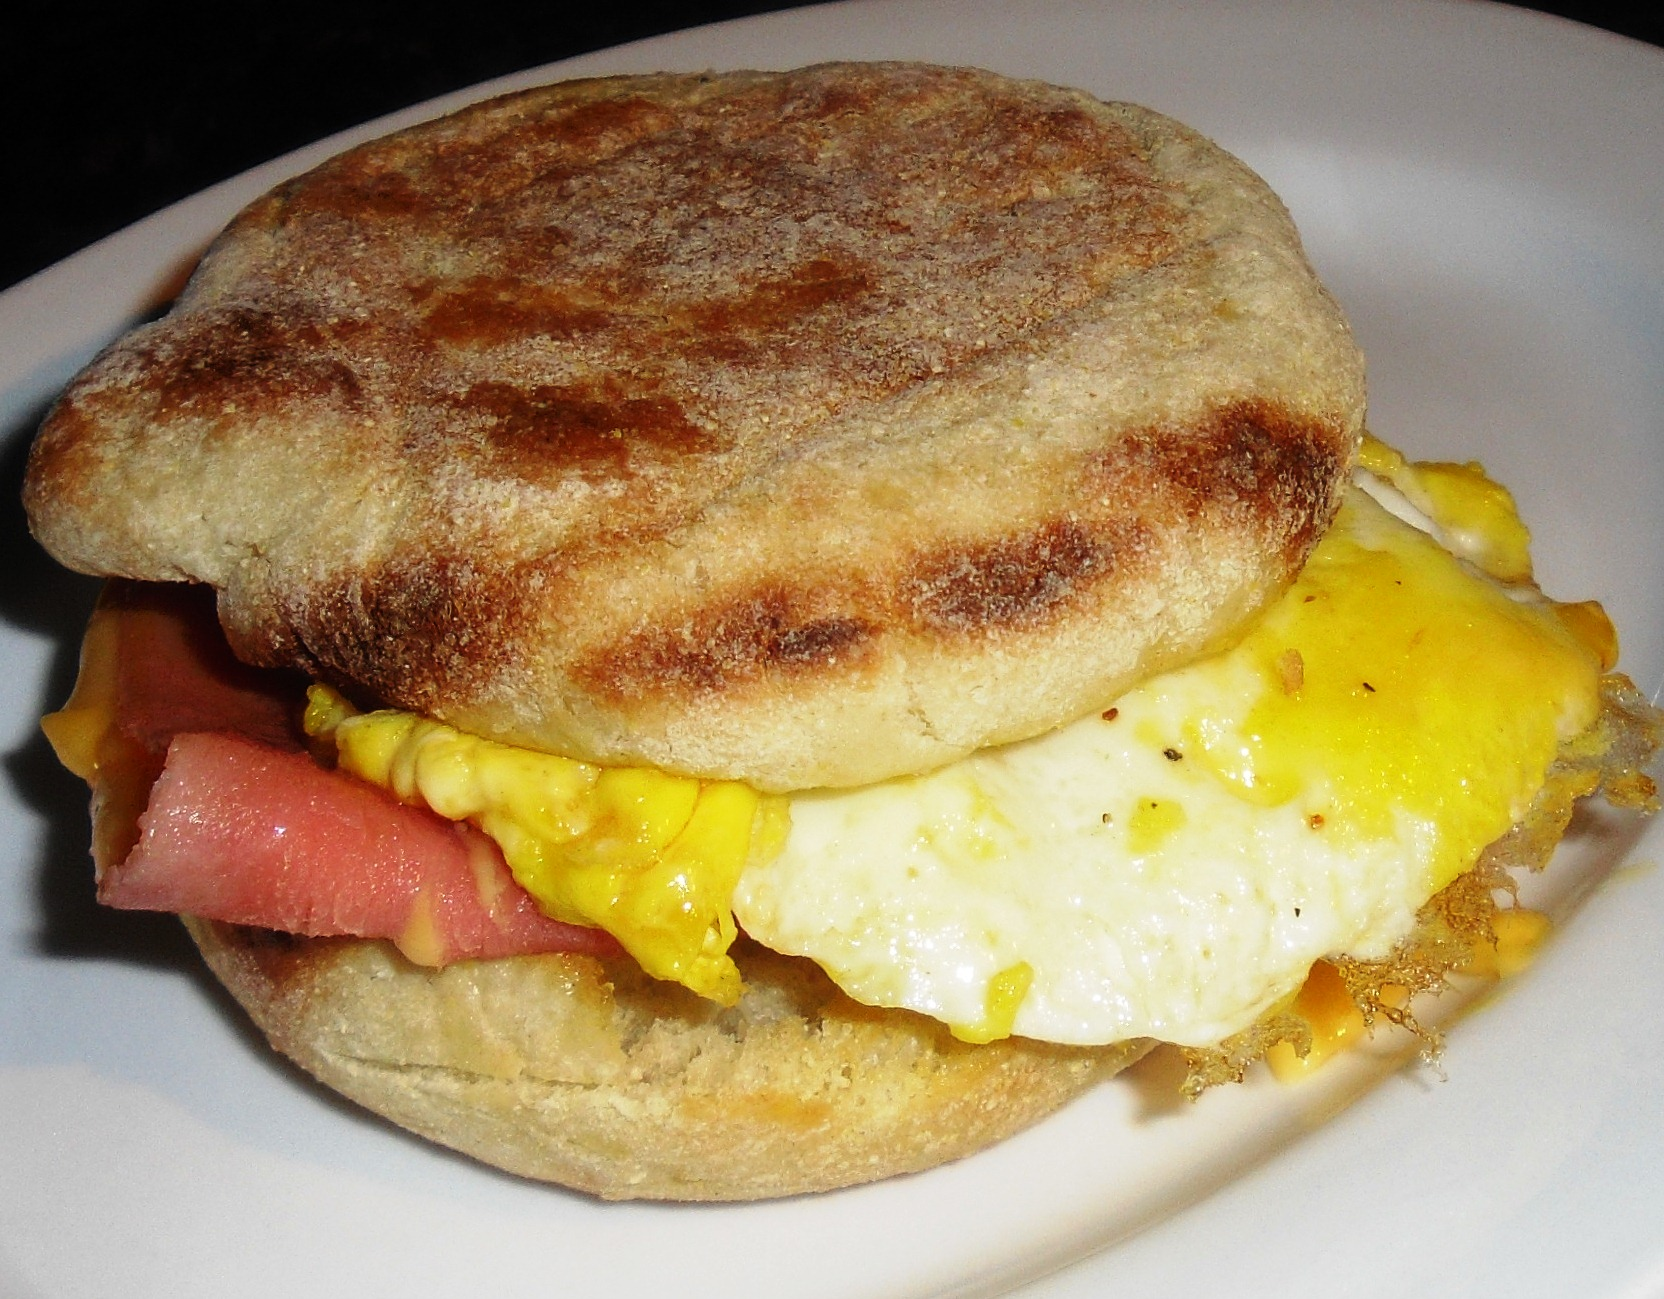fried egg: (640, 816, 1474, 941)
slice of bread: (132, 362, 1348, 695), (286, 1005, 1166, 1204)
